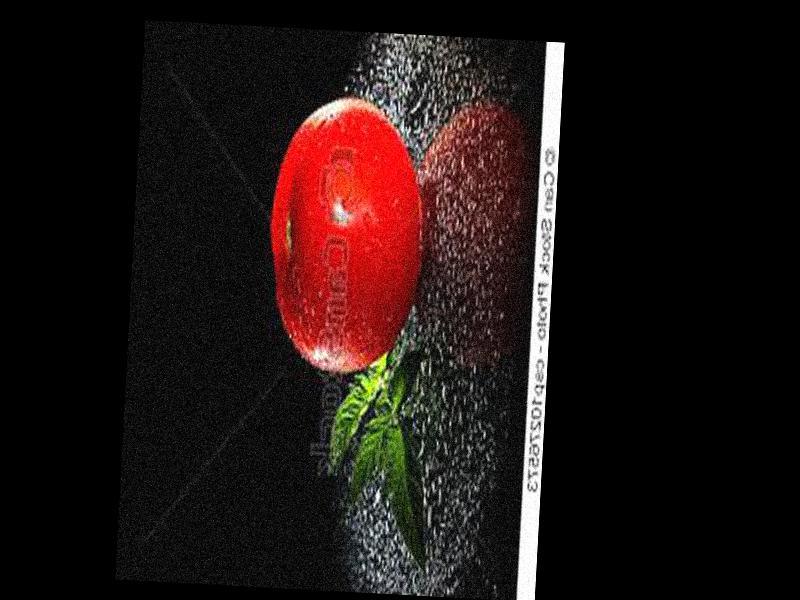Tomato: (263, 95, 428, 375)
